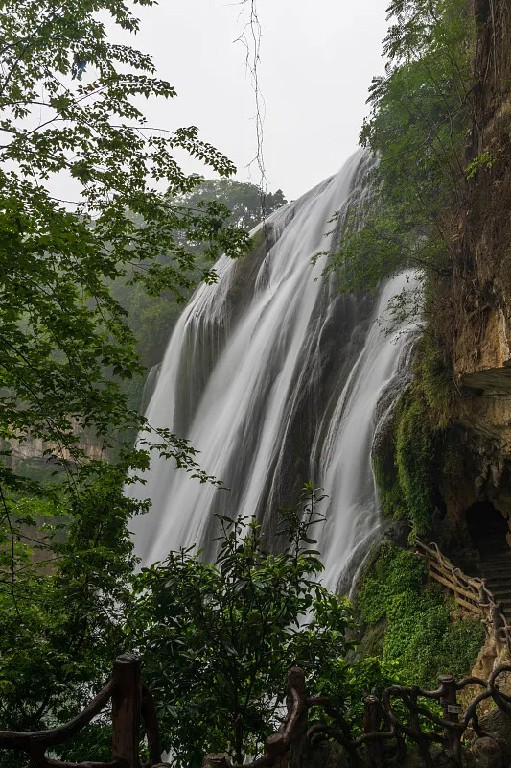Huangguoshu: (124, 152, 426, 604)
